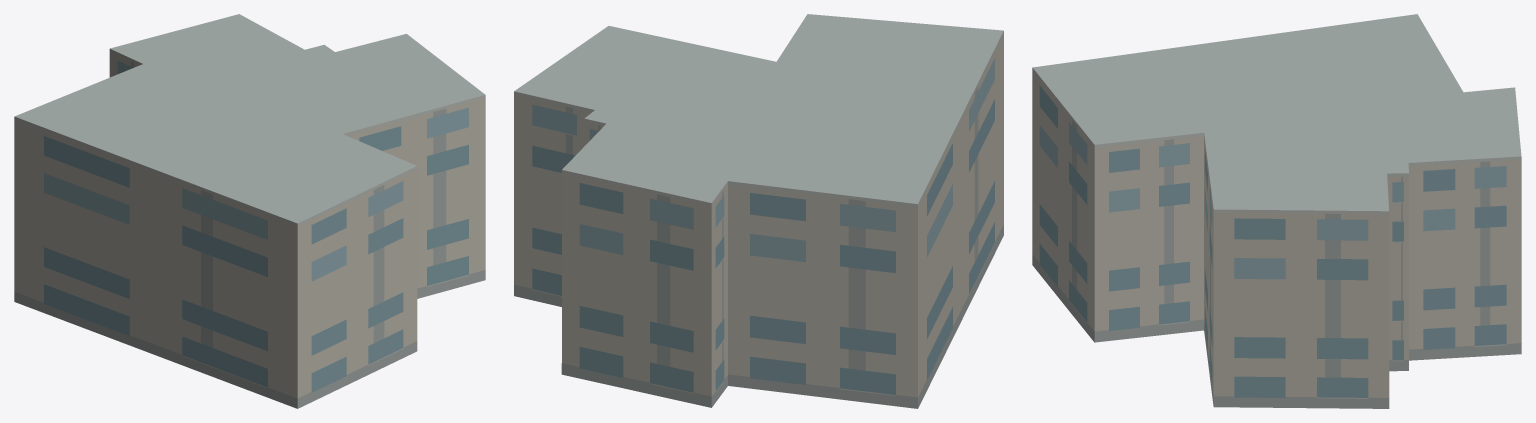
File: residential-36c58e9e-92b7-46f7-b5b3-78c3e8a2872c.glb
3 renders of one model, left to right at view 1: azimuth 30°, elevation 25°; view 2: azimuth 150°, elevation 25°; view 3: azimuth 270°, elevation 25°, orthographic. The views are drawn at different scales.
Visible parts, largest first — view 1: residential-36c58e9e-92b7-46f7-b5b3-78c3e8a2872c.tmp; view 2: residential-36c58e9e-92b7-46f7-b5b3-78c3e8a2872c.tmp; view 3: residential-36c58e9e-92b7-46f7-b5b3-78c3e8a2872c.tmp.
Boxes of the visible parts, left/top/right/bottom form: residential-36c58e9e-92b7-46f7-b5b3-78c3e8a2872c.tmp: left=14, top=14, right=485, bottom=408; residential-36c58e9e-92b7-46f7-b5b3-78c3e8a2872c.tmp: left=514, top=14, right=1003, bottom=408; residential-36c58e9e-92b7-46f7-b5b3-78c3e8a2872c.tmp: left=1032, top=14, right=1521, bottom=408.
Size of the model in its own units: 32.63 by 15.25 by 34.2.
